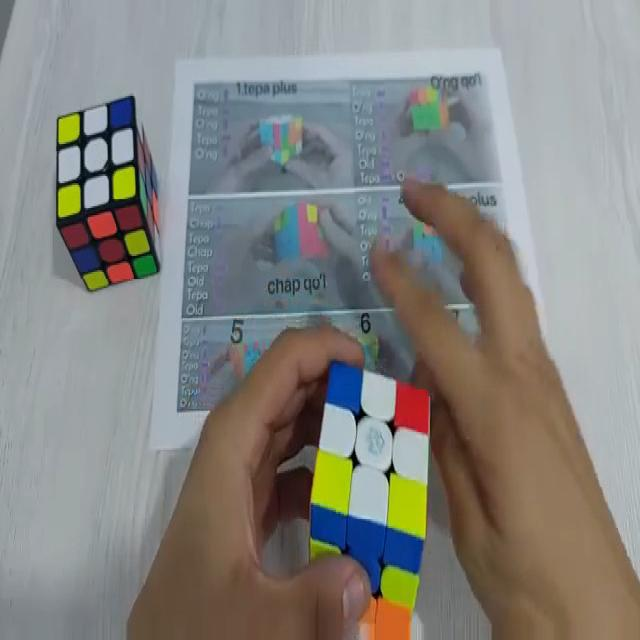Rub: (307, 355, 433, 640), (57, 92, 161, 293)
